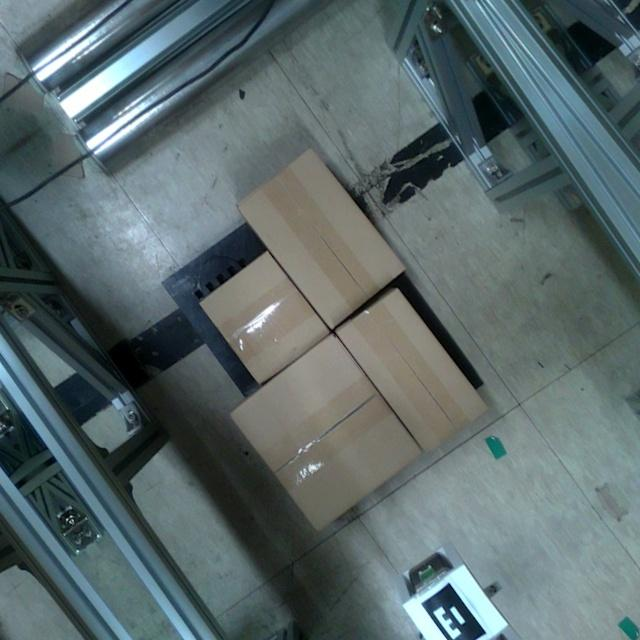box: (222, 328, 430, 538), (230, 139, 414, 334), (330, 281, 494, 461), (192, 245, 336, 392)
